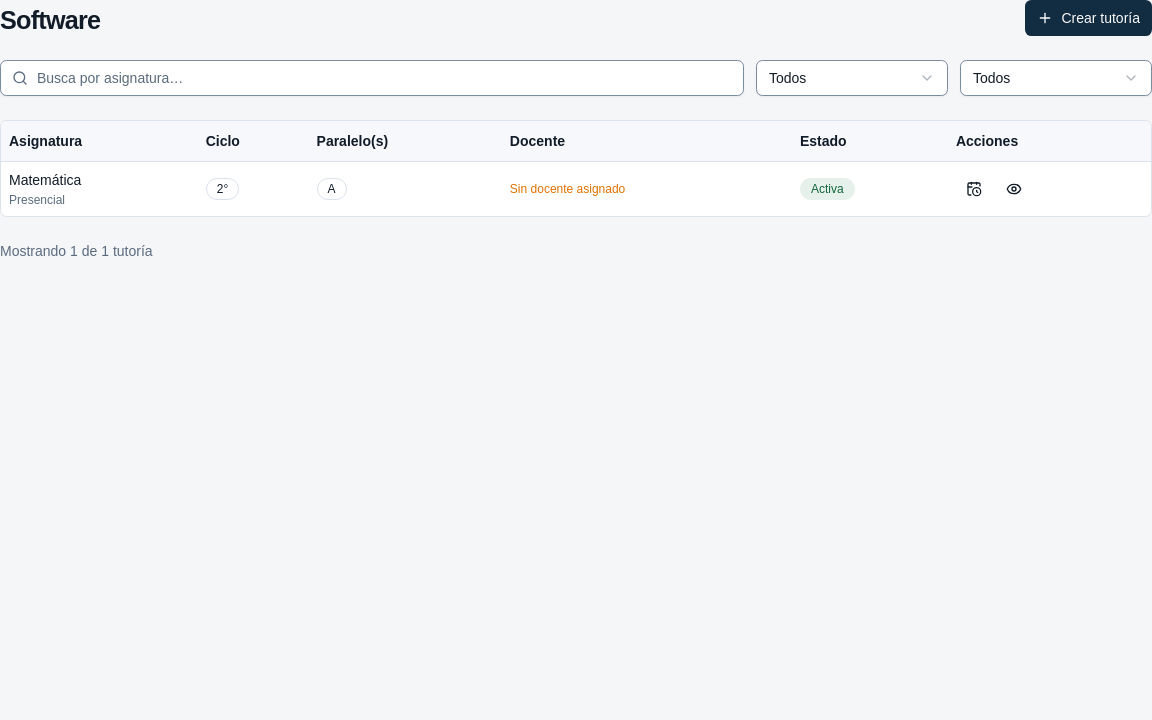
Test: Coordinación de tutorías › abre un modal con los horarios al hacer clic en el icono Ver horario de la columna Acciones sin cuadro de info de materia
Expected: the text "Matemática" is shown, [9, 172, 81, 188]
# Al hacer clic, abre el modal de horarios
What coordinates should you click on to do the following:
click the button named "Ver horario de Matemática"
I would click on:
 (974, 188)
Its box is [956, 170, 992, 206].
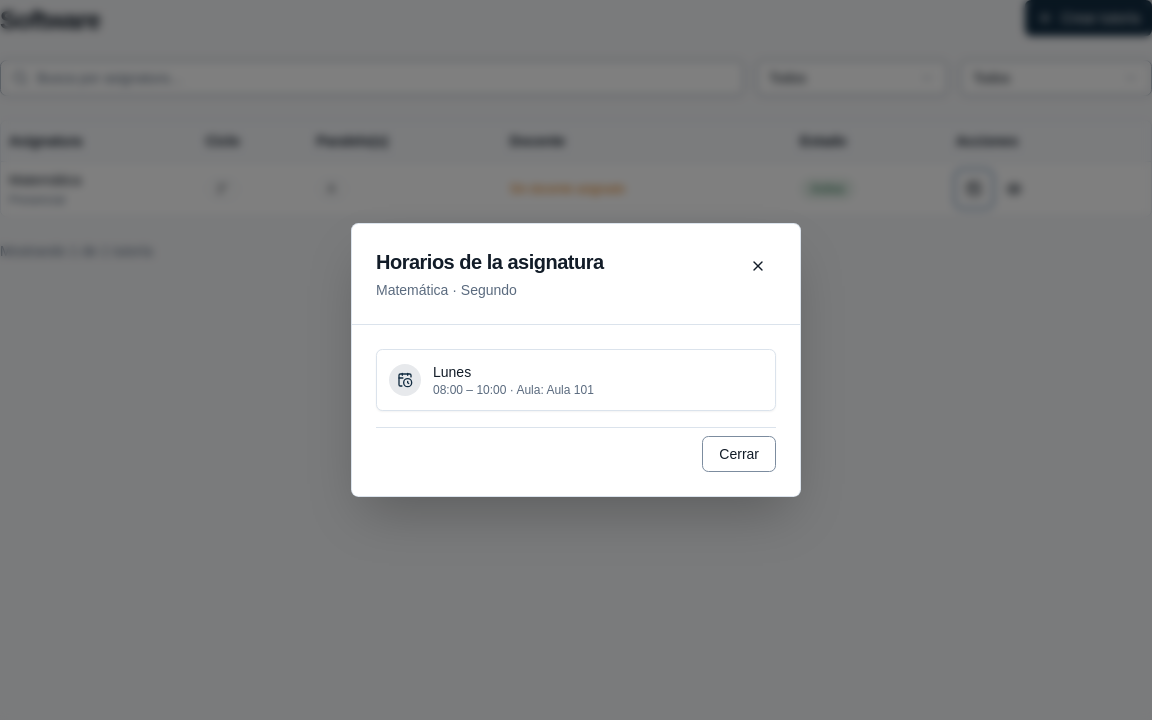
Result: the heading "Horarios de la asignatura" is shown at [376, 248, 604, 276]
Result: the text "Lunes" is shown at [433, 364, 471, 380]
Result: the text "08:00 – 10:00 · Aula: Aula 101" is shown at [433, 382, 594, 398]
# Se puede cerrar el modal
What coordinates should you click on to do the following:
click the button "Cerrar"
I would click on:
 (739, 454)
Its box is [702, 436, 776, 472].
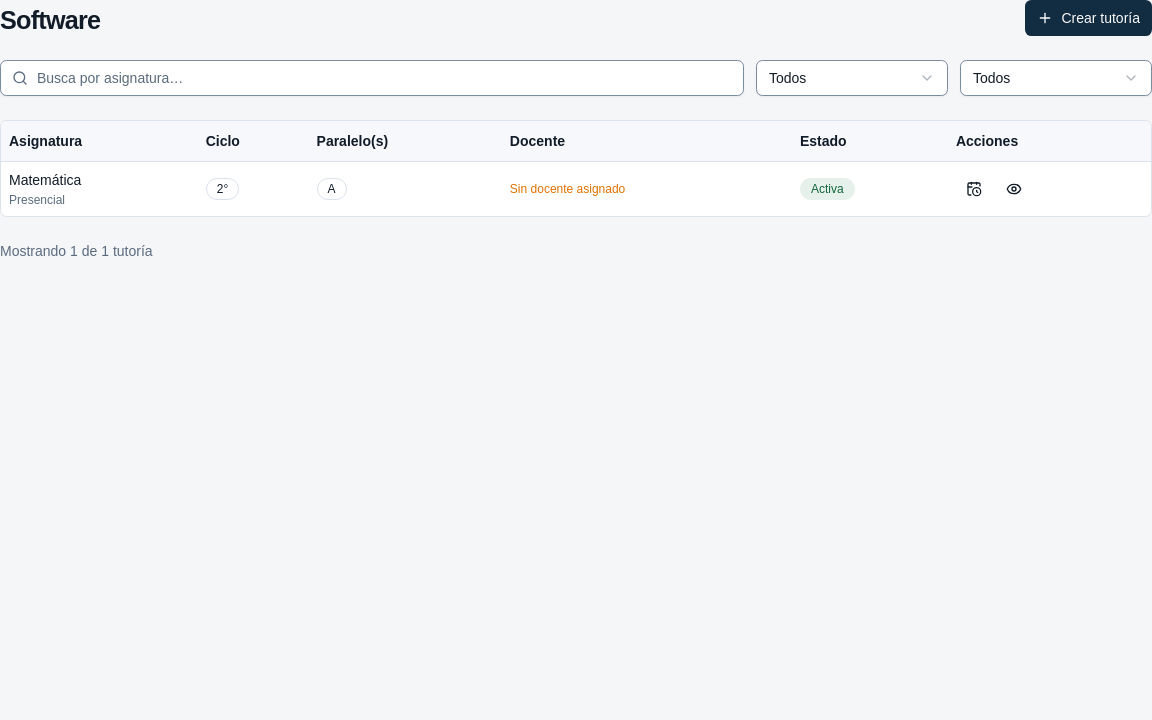
Result: the dialog is gone
